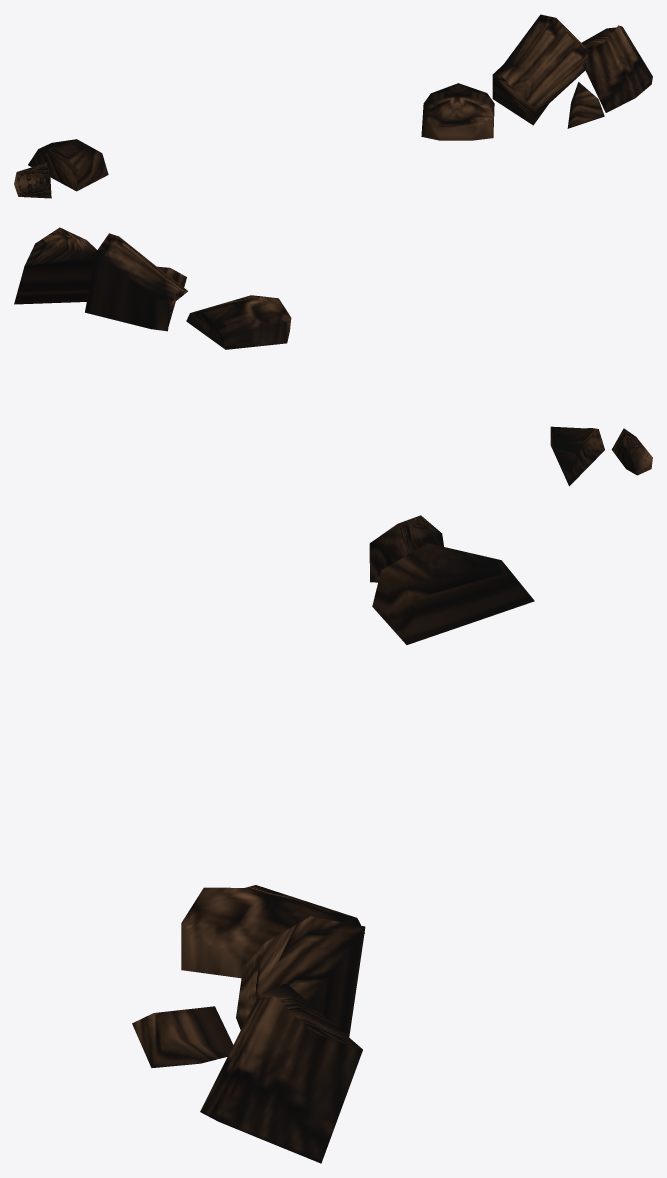
The model's file is test-broken_statue.glb.
3 renders of one model, top to bottom at view 1: azimuth 30°, elevation 25°; view 2: azimuth 150°, elevation 25°; view 3: azimuth 270°, elevation 25°, orthographic. The views are drawn at different scales.
Visible parts, largest first — view 1: broken_statue; view 2: broken_statue; view 3: broken_statue.
Part boxes in pixels (left/top/right/bottom): broken_statue: left=14, top=14, right=652, bottom=198; broken_statue: left=14, top=227, right=652, bottom=486; broken_statue: left=132, top=515, right=534, bottom=1163.
Bounding box in the file's own units: 97.5 × 13.51 × 28.28.
2 materials, 2 textured.
